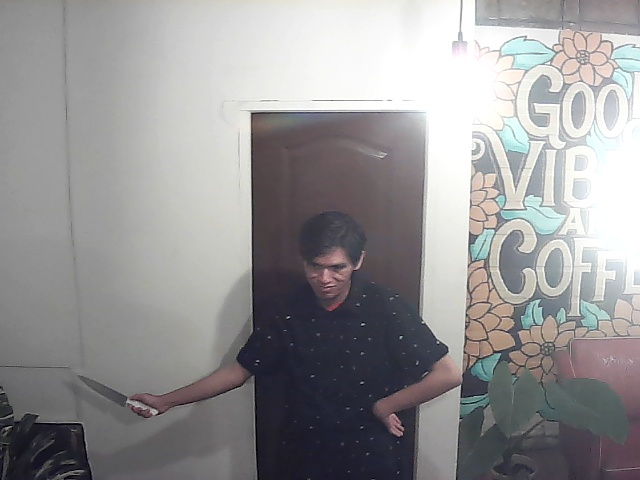cuchillo: (68, 366, 165, 424)
